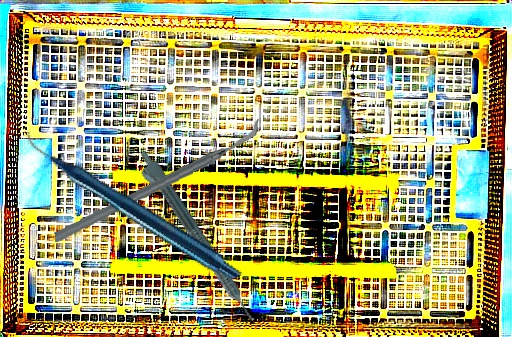Chopper: (47, 118, 268, 243)
Handpiece: (24, 78, 244, 330), (130, 147, 259, 330)
